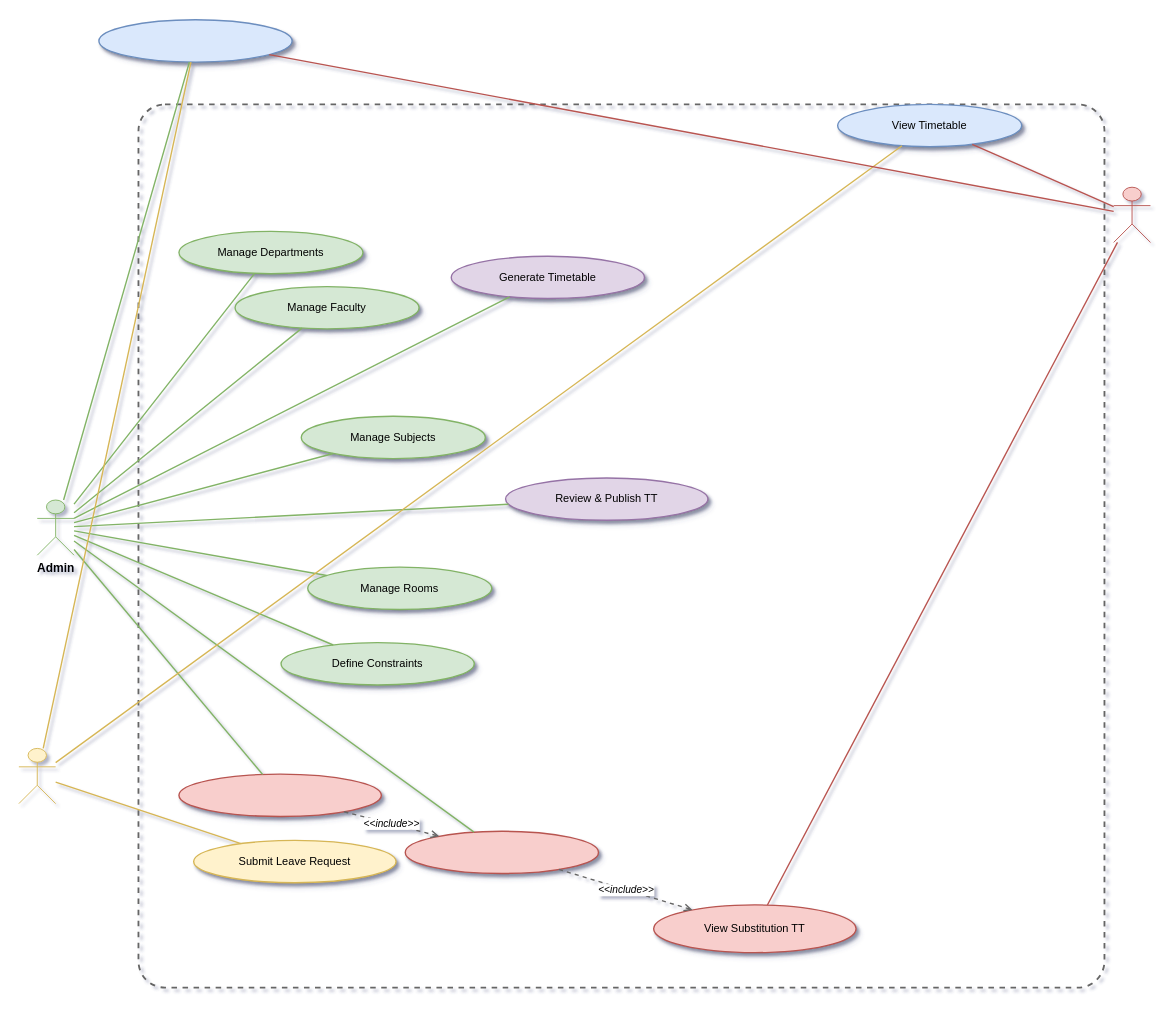
This 1175x1010 diagram has some shape labels left out. Each missing label, with the centre of its shape:
Approve / Deny Leave: point (280, 796)
Faculty: point (37, 776)
Login / Register: point (196, 42)
Smart Substitution: point (502, 853)
Student: point (1131, 214)
